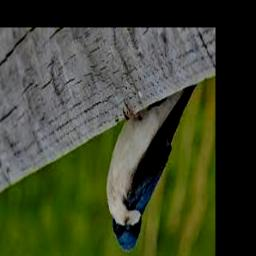Swallow: (107, 84, 197, 251)
